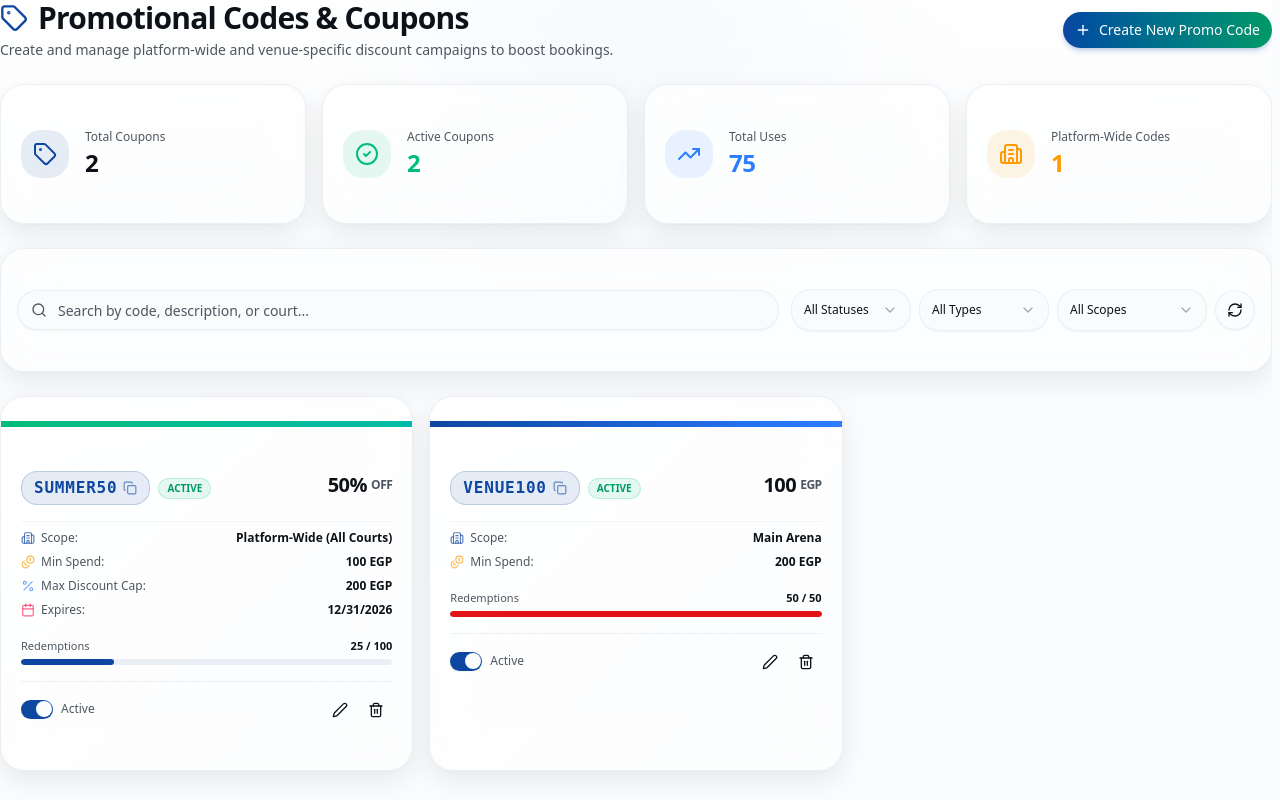
Test case: CouponsPage › opens create modal and creates a coupon
Later steps or results of the test are not shown.
expect the text "SUMMER50" is shown: met, box [34,476,118,500]
// Click Create button
Click the button "Create New Promo Code": {"x": 1167, "y": 30} [1063,12,1272,48]
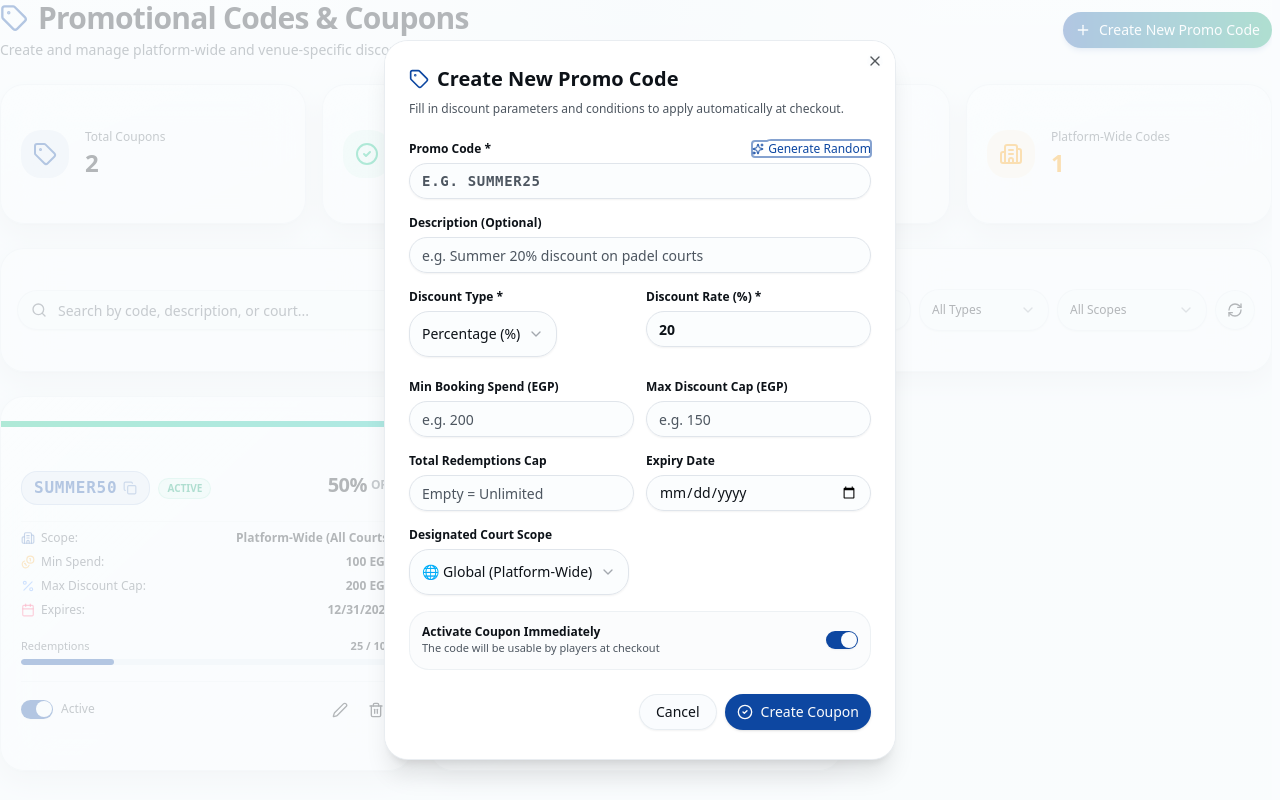
expect the field with placeholder "e.g. SUMMER25" is shown: met, box [409,163,871,199]
